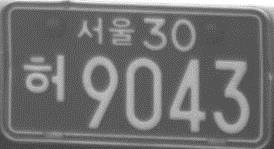0: (123, 54, 163, 131), (169, 18, 197, 53)
3: (209, 56, 252, 135), (141, 14, 168, 52)
4: (170, 57, 207, 137)
9: (80, 53, 119, 131)
서울_O: (76, 15, 137, 48)
허: (21, 51, 67, 105)
